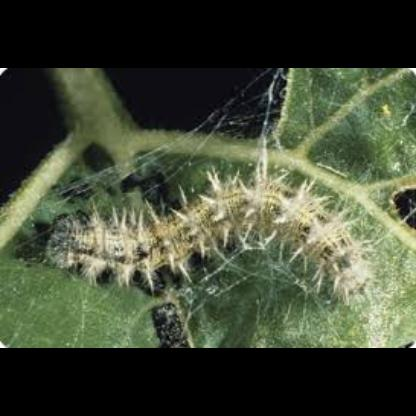oruga: (39, 172, 381, 308)
